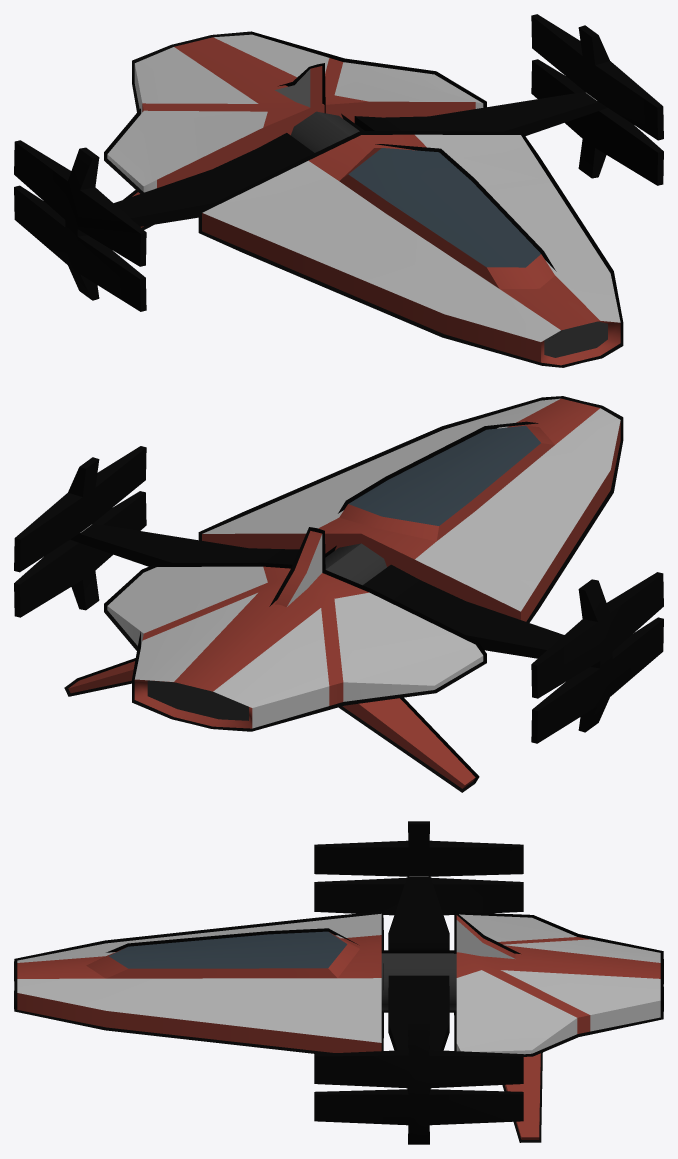
File: RiftPiloteerS3.fbx
3 renders of one model, top to bottom at view 1: azimuth 30°, elevation 25°; view 2: azimuth 150°, elevation 25°; view 3: azimuth 270°, elevation 25°, orthographic. The views are drawn at different scales.
Parts seen in each view (by area): view 1: Cube, Cube.001; view 2: Cube, Cube.001; view 3: Cube, Cube.001.
Part boxes in pixels (bbox=[...]): Cube: bbox=[104, 31, 623, 367]; Cube.001: bbox=[14, 14, 663, 311]; Cube: bbox=[64, 396, 623, 792]; Cube.001: bbox=[14, 446, 663, 743]; Cube: bbox=[14, 911, 663, 1142]; Cube.001: bbox=[314, 821, 523, 1144].
Size of the model in its own units: 911 by 291 by 1154.
